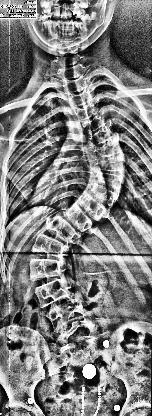Vertebrae: (53, 206, 106, 232), (24, 281, 84, 303), (37, 302, 102, 322), (68, 195, 118, 221), (21, 236, 77, 258), (37, 220, 90, 242), (80, 184, 126, 206), (59, 91, 104, 113), (22, 259, 70, 279), (68, 104, 106, 126), (73, 118, 119, 136), (56, 76, 92, 98), (90, 172, 132, 190), (92, 158, 132, 176), (81, 129, 121, 147), (90, 143, 128, 159)
